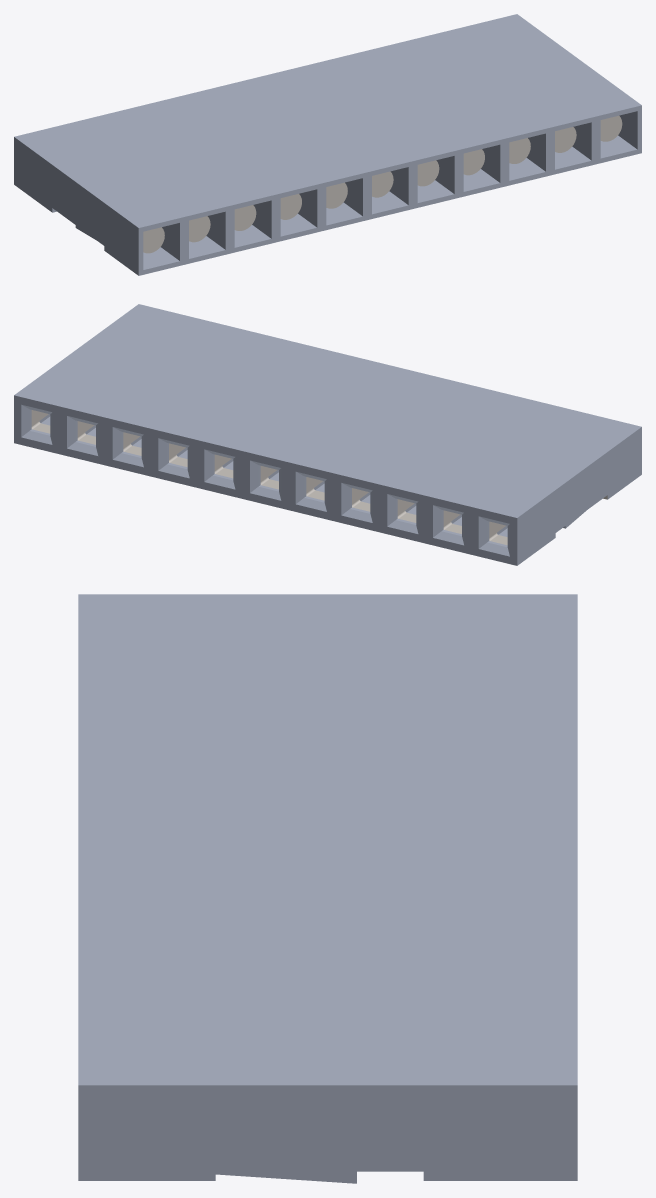
3 views of the same model, one above another, from view 1: azimuth 30°, elevation 25°; view 2: azimuth 150°, elevation 25°; view 3: azimuth 270°, elevation 25° (orthographic). The views are drawn at different scales.
Visible parts, largest first — view 1: DS1071-1x11; view 2: DS1071-1x11; view 3: DS1071-1x11.
Boxes of the visible parts, x1,y1,x2,y2 form: DS1071-1x11: [14, 14, 641, 275]; DS1071-1x11: [14, 304, 641, 565]; DS1071-1x11: [78, 594, 577, 1183].
Bounding box in the file's own units: 0.0181 × 0.00181 × 0.00779.
